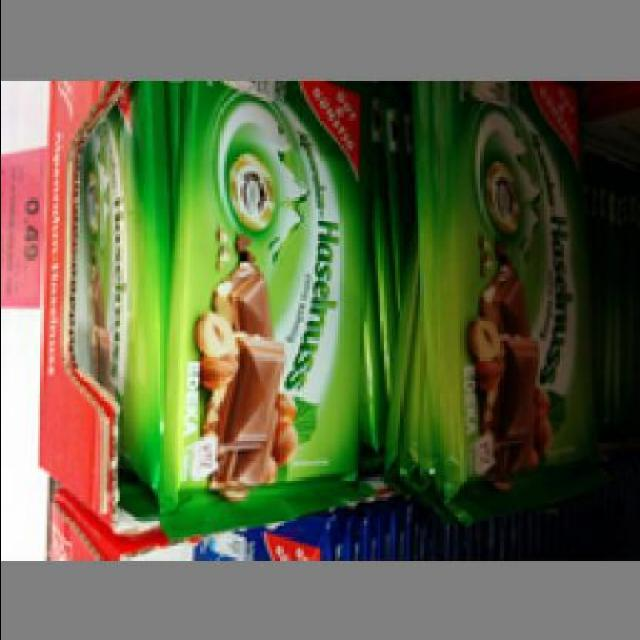Chocolate bar: (156, 77, 372, 537), (428, 80, 584, 506)
